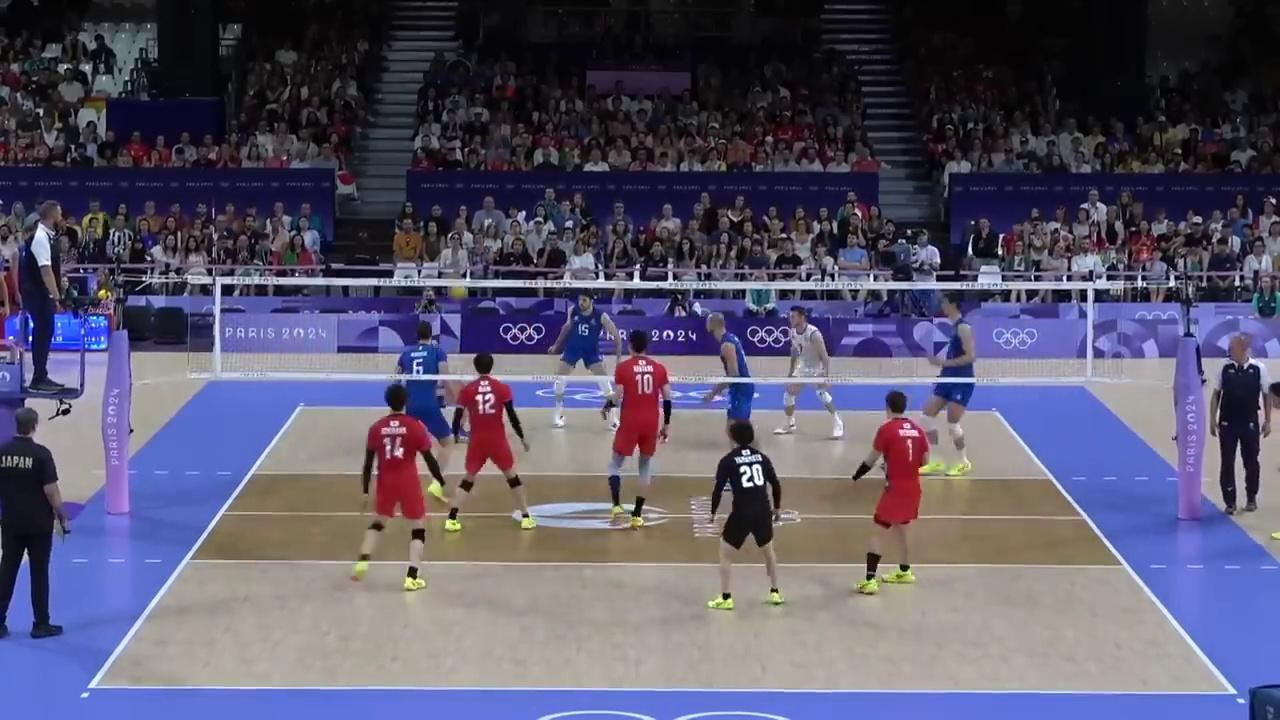ball: (447, 286, 469, 299)
